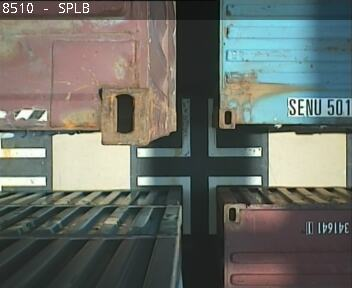groundmarker_1: (136, 176, 263, 234), (135, 100, 261, 158)
